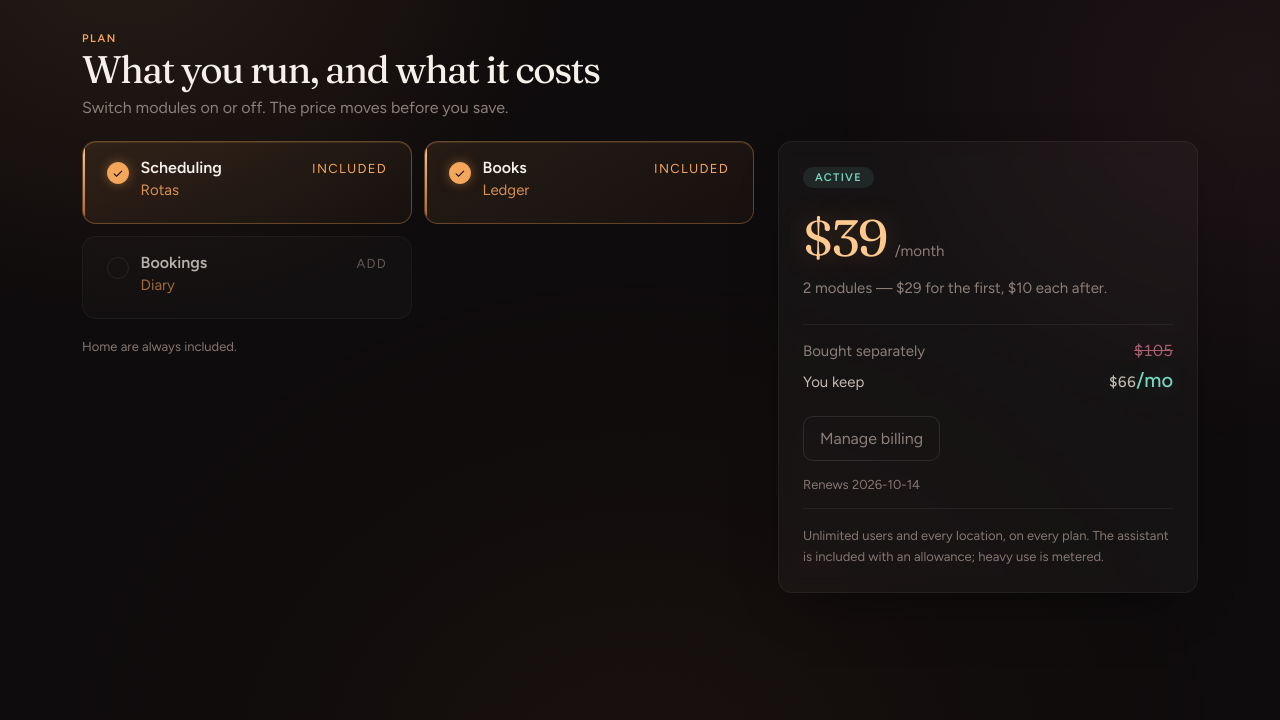
Test: choosing modules › offers save and reset only once something has changed
This screenshot has width=1280, height=720.
Expected: the text "$39" is shown, [803,212,887,264]
Expected: the button "Save changes" is not shown
Click the button "Bookings add Diary": click(174, 263) [82,236,412,320]
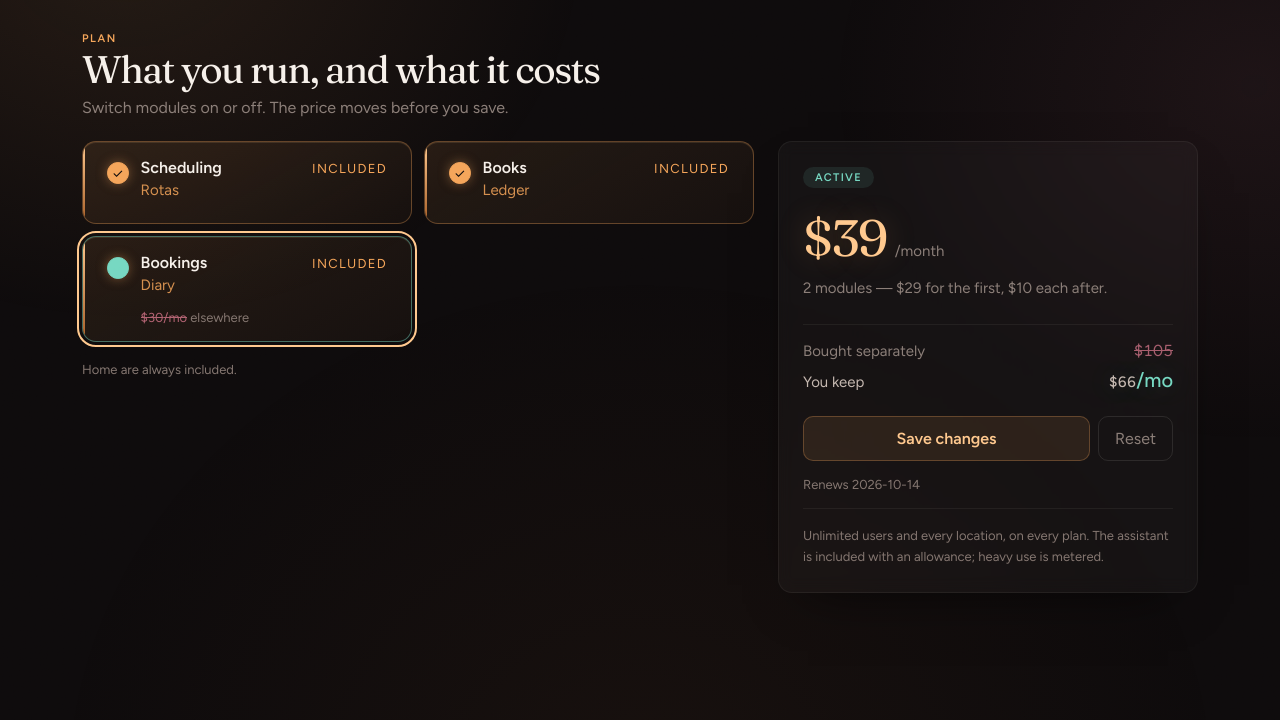
Now the button "Save changes" is shown, box [803,416,1090,461]
